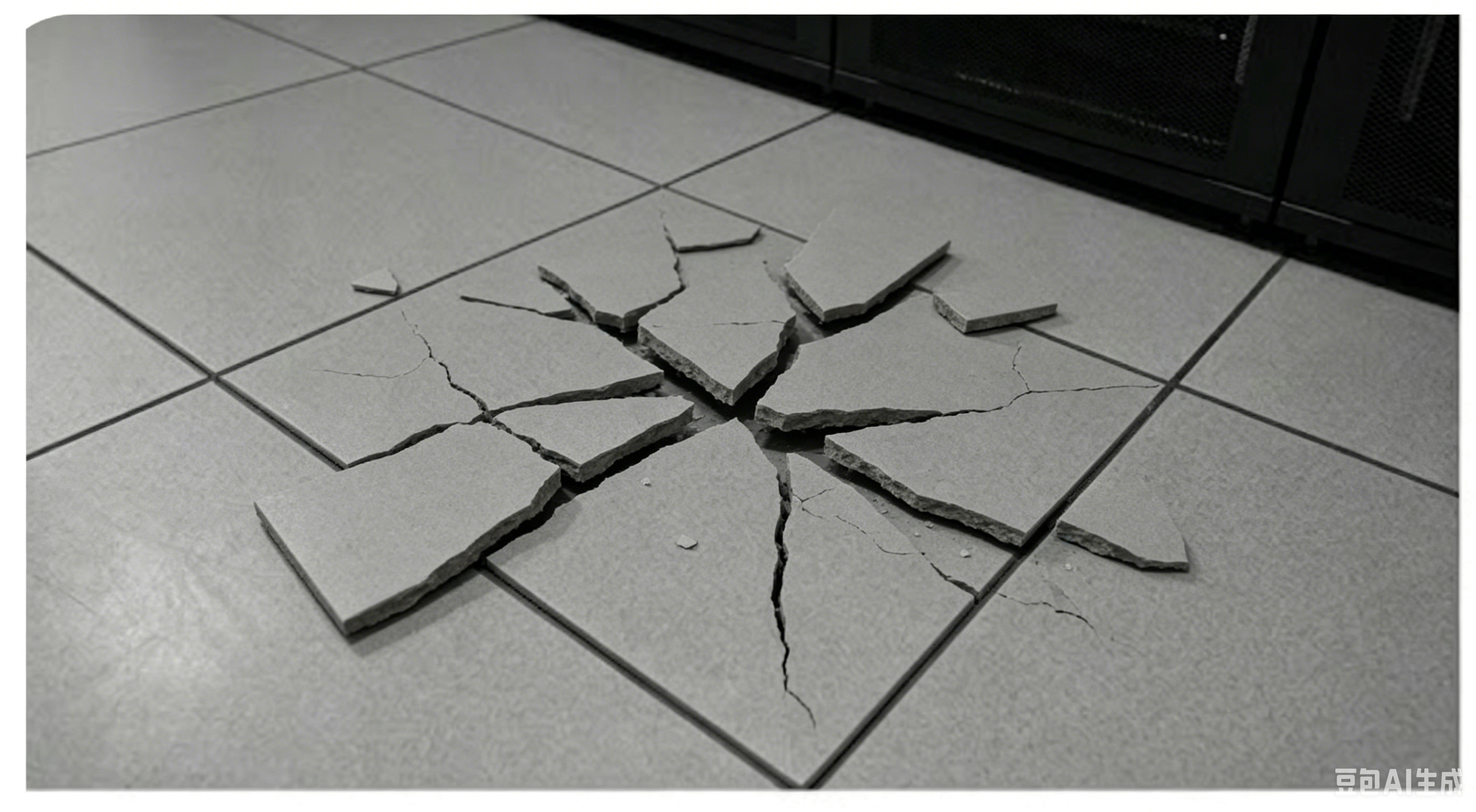floor_defect: (266, 175, 1164, 718)
